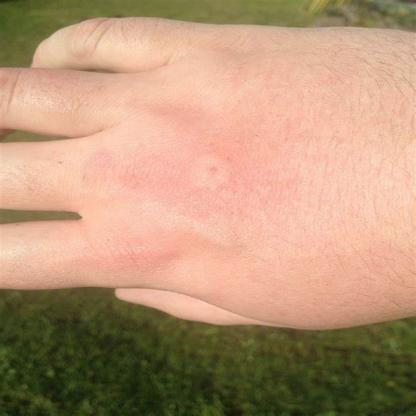Wasp: (173, 148, 238, 198)
